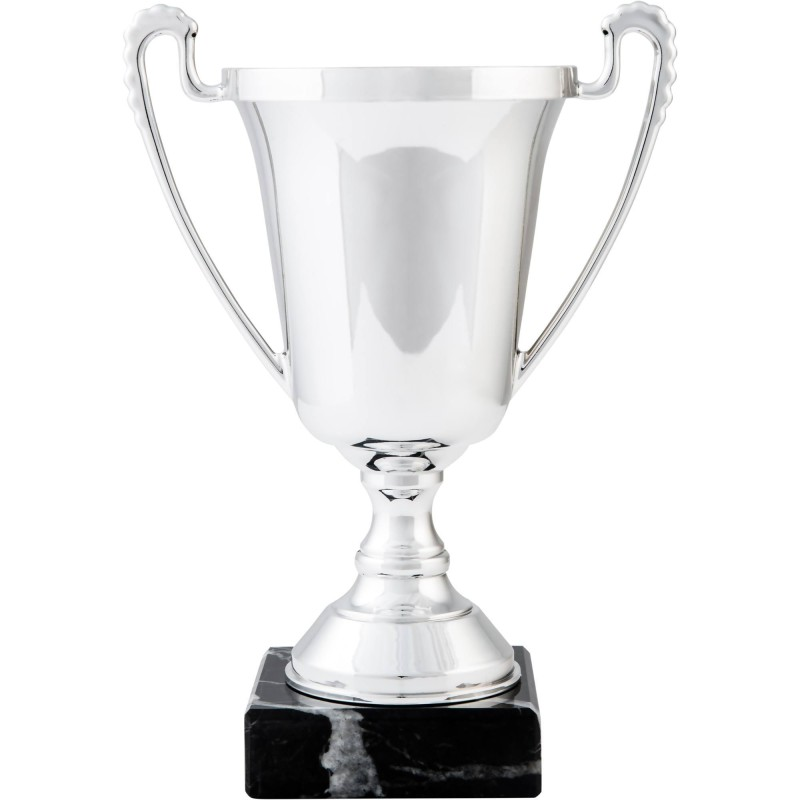trophy: (123, 1, 684, 800)
